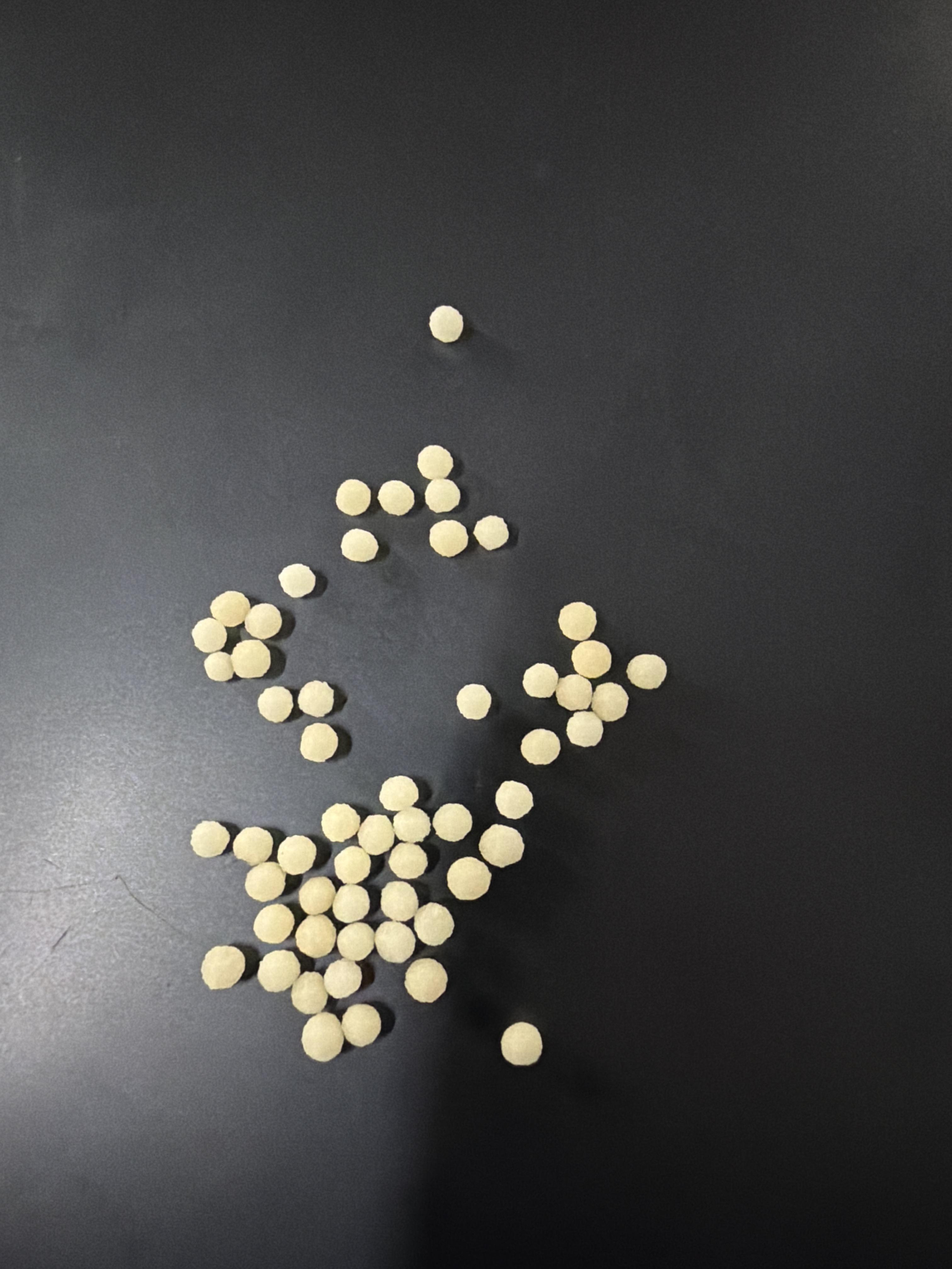pill: (302, 1012, 344, 1062), (446, 856, 491, 900), (201, 946, 246, 990), (479, 824, 524, 867), (405, 957, 447, 1003), (257, 950, 300, 992), (501, 1022, 542, 1066), (341, 1003, 382, 1047), (296, 914, 336, 959), (375, 920, 416, 963), (245, 860, 286, 902), (414, 902, 454, 945), (253, 904, 294, 944), (232, 826, 273, 866), (571, 639, 611, 679), (432, 803, 473, 842), (323, 959, 362, 999), (277, 835, 316, 875), (231, 639, 270, 679), (380, 881, 418, 922), (291, 971, 327, 1014), (321, 803, 360, 842), (299, 723, 338, 762), (332, 883, 370, 923), (558, 601, 596, 641), (358, 814, 395, 855), (429, 519, 468, 557), (591, 682, 628, 722), (388, 843, 428, 880), (210, 591, 251, 627), (495, 781, 533, 819), (298, 876, 336, 914), (337, 922, 374, 961), (334, 845, 371, 884), (520, 729, 560, 765), (379, 776, 419, 812), (190, 821, 230, 857), (626, 654, 667, 689), (257, 685, 294, 723), (244, 603, 282, 640), (555, 674, 592, 711), (298, 680, 334, 718), (428, 305, 464, 343), (566, 711, 603, 747), (393, 806, 430, 842), (378, 480, 415, 516), (335, 479, 371, 516), (278, 563, 316, 598), (522, 663, 558, 698), (473, 515, 509, 550), (191, 618, 227, 653), (341, 528, 378, 562), (425, 479, 460, 514), (418, 445, 453, 480), (458, 683, 491, 720), (203, 651, 234, 682)
